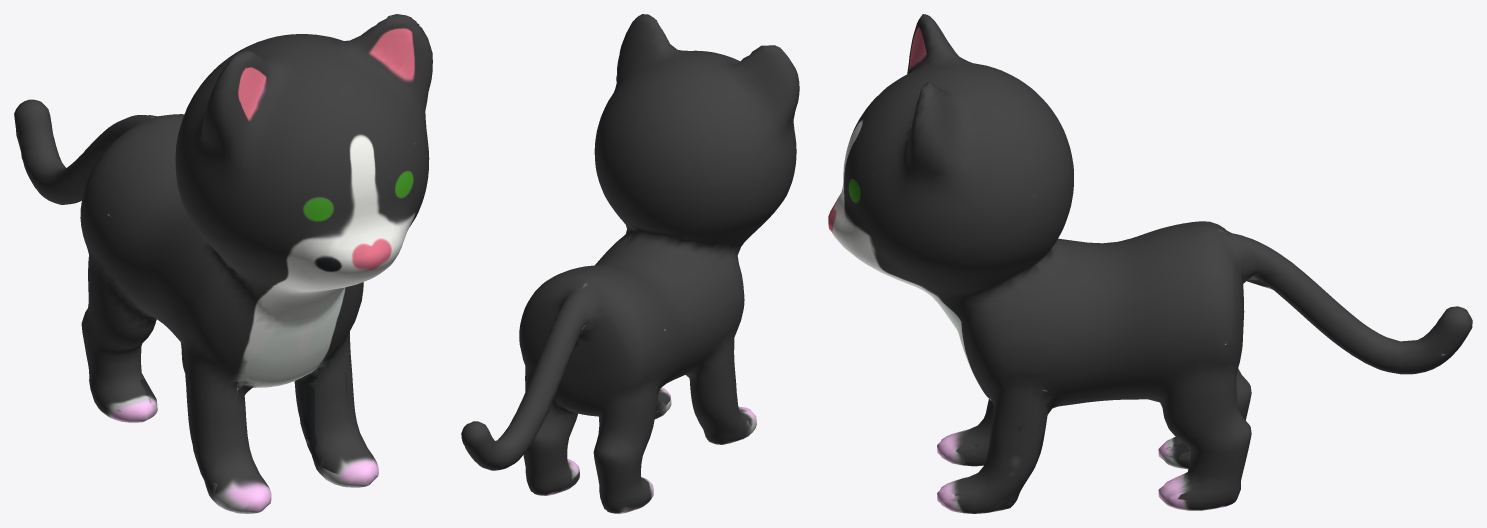
The model's file is kittyremastered.glb.
3 views of the same model, side by side, from view 1: azimuth 30°, elevation 25°; view 2: azimuth 150°, elevation 25°; view 3: azimuth 270°, elevation 25° (orthographic). The views are drawn at different scales.
Parts seen in each view (by area): view 1: Cylinder; view 2: Cylinder; view 3: Cylinder.
Part boxes in pixels (x1,y1,x2,y2): Cylinder: (14, 14, 432, 513); Cylinder: (461, 14, 799, 513); Cylinder: (828, 14, 1472, 513).
Bounding box in the file's own units: 2.46 × 5.05 × 6.84.
1 material, 1 textured.
